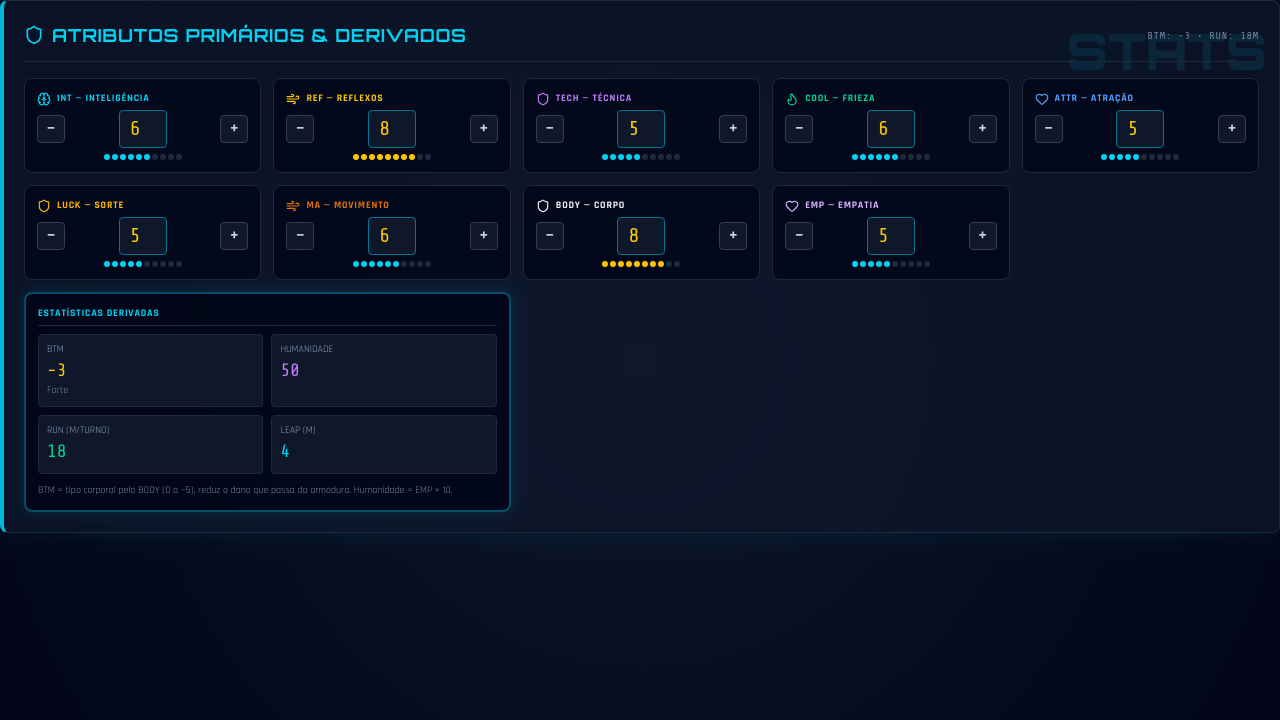
G.12 — o atributo digitado entra como digitado › sair do campo vazio mantém o valor que estava
Clear the number field named "INT" at (143, 129), box [119,110,167,148]
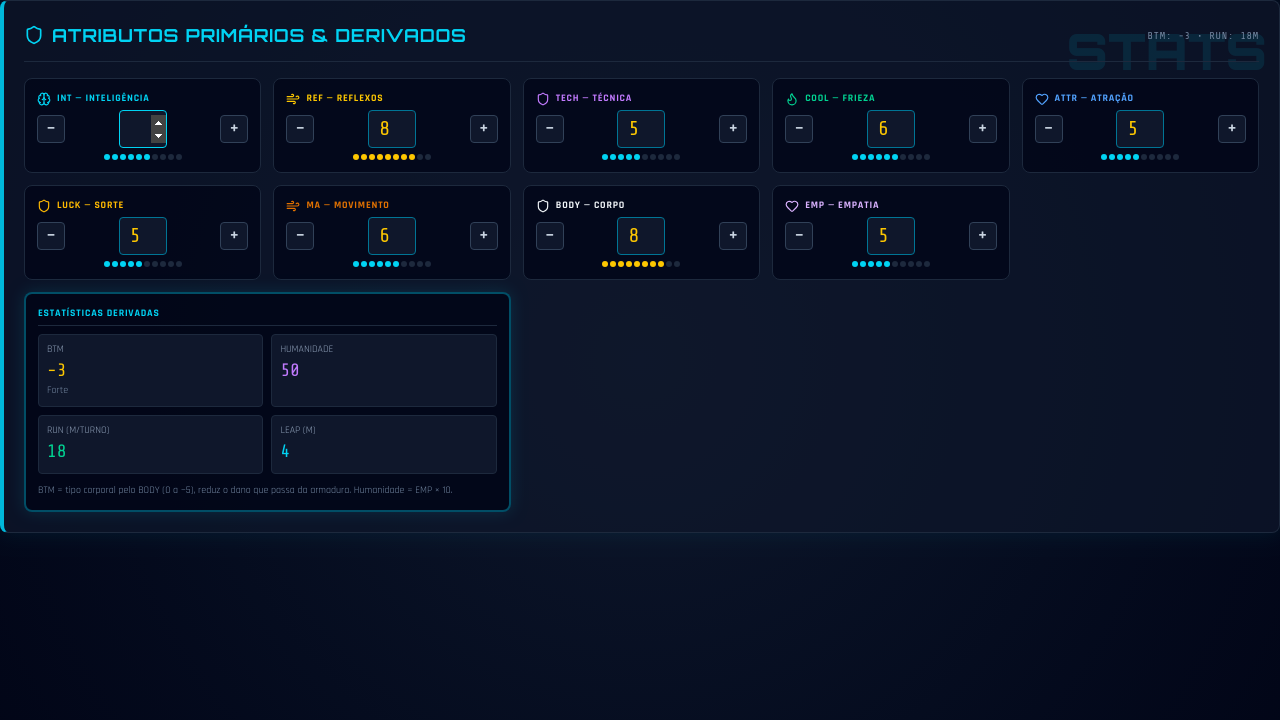
Press Tab
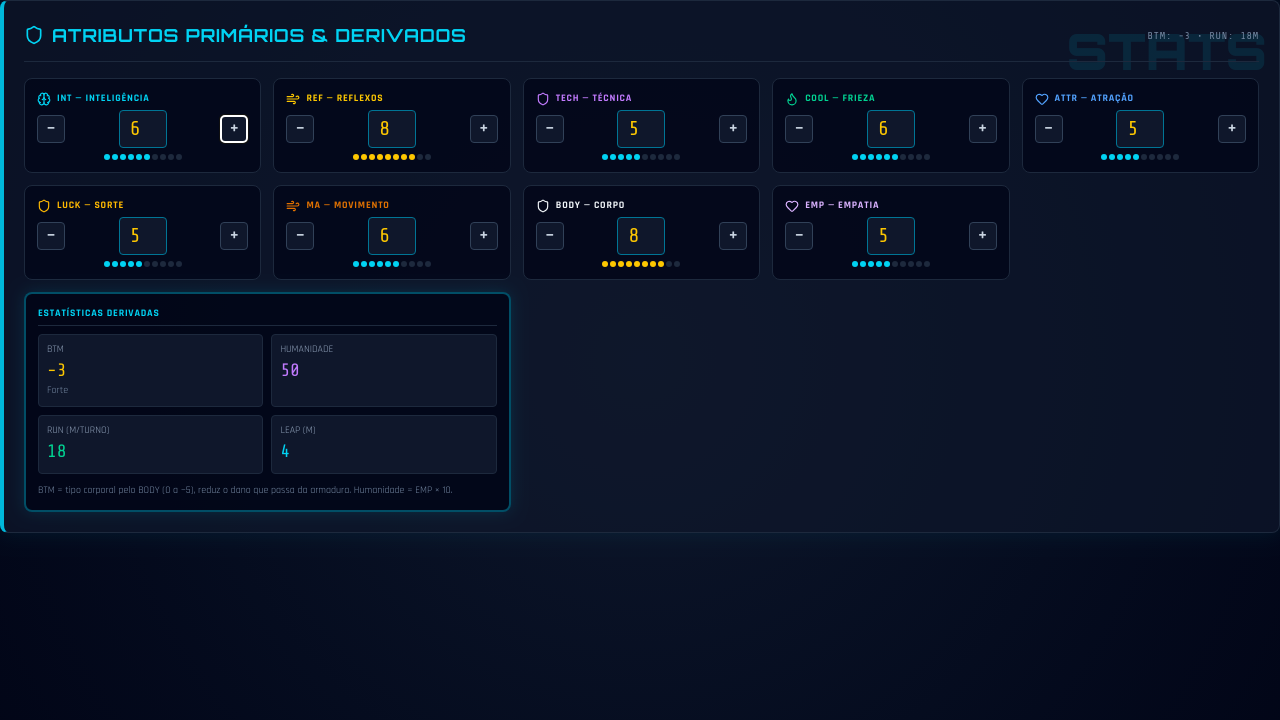
Expected: the number field named "INT" holds "6", [119,110,167,148]
